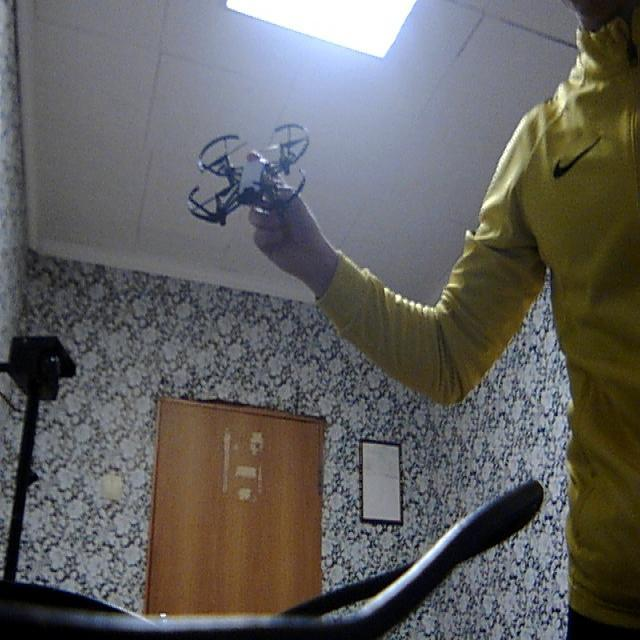drone: (184, 104, 324, 232)
